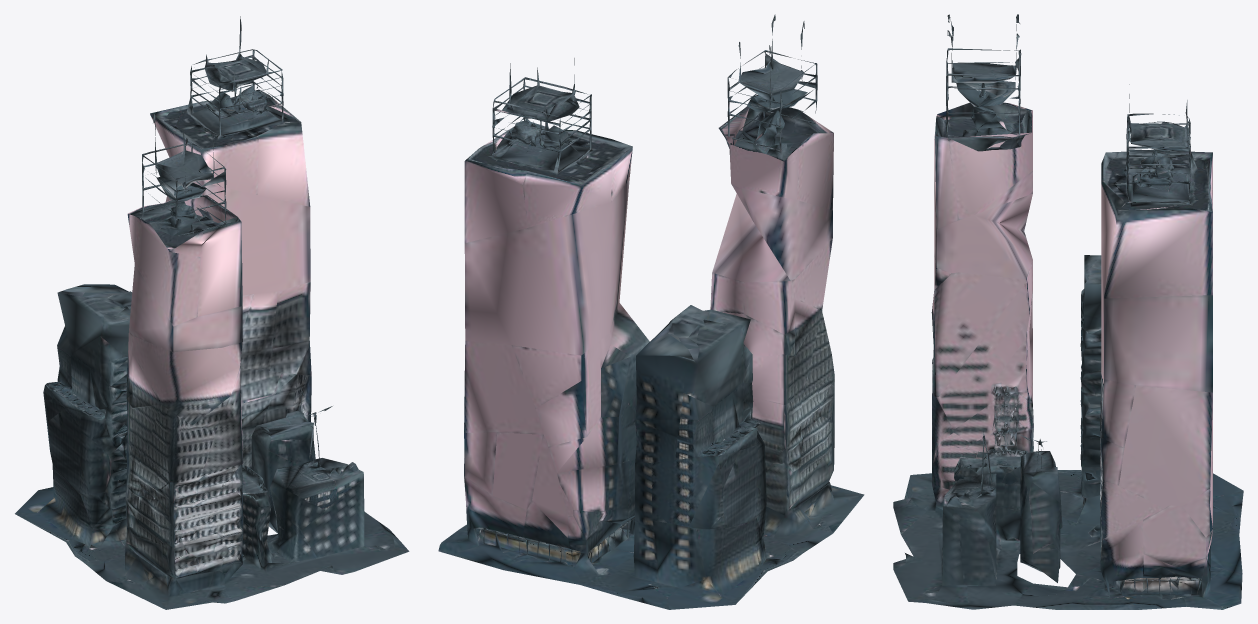
The model's file is tower_d_p.glb.
3 renders of one model, left to right at view 1: azimuth 30°, elevation 25°; view 2: azimuth 150°, elevation 25°; view 3: azimuth 270°, elevation 25°, orthographic. The views are drawn at different scales.
Size of the model in its own units: 1.17 by 1.9 by 1.24.
1 material, 1 textured.
